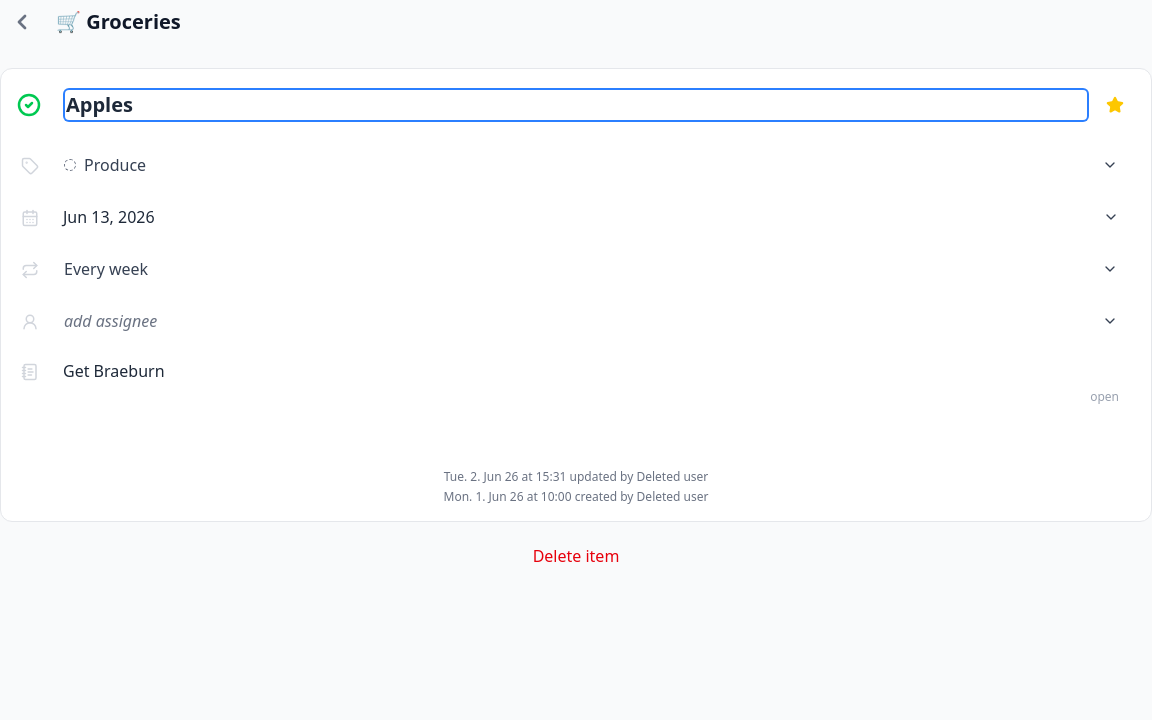
Test: item detail capabilities › opens and cancels item deletion in an app dialog
Click the button "Delete item" at {"x": 576, "y": 556}, box [0, 538, 1151, 574]
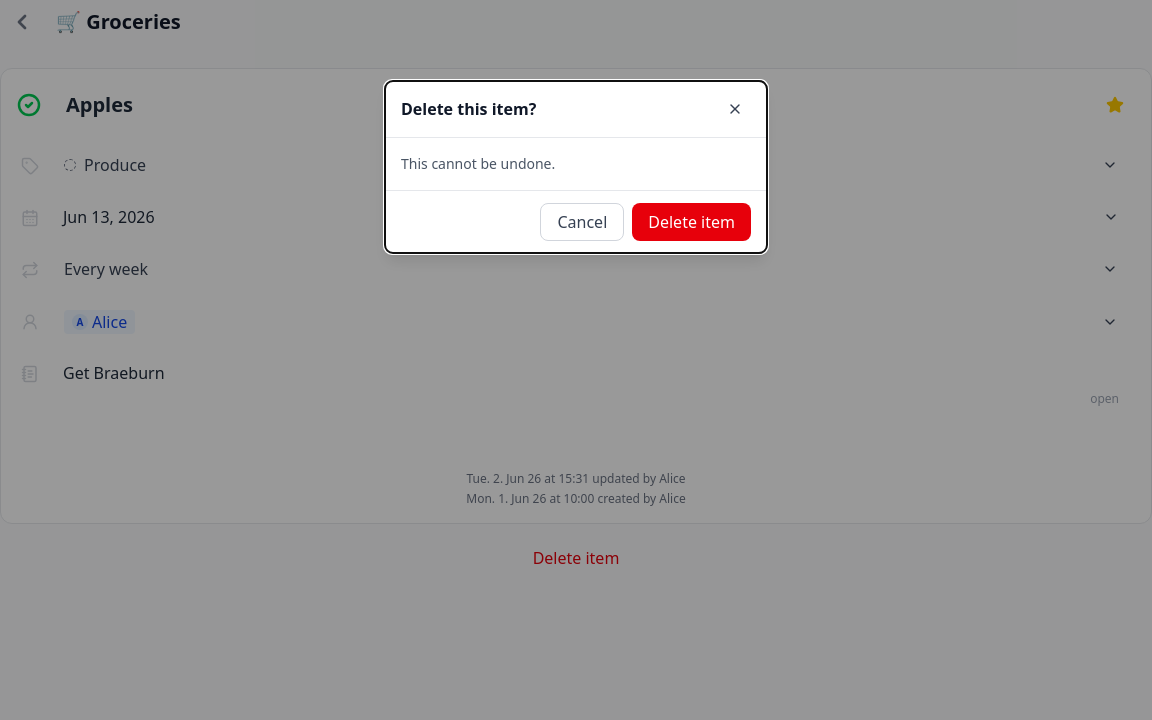
Expected: the dialog "Delete this item?" shows "This cannot be undone.", [401, 154, 555, 173]
Click the button "Cancel" at {"x": 582, "y": 222}, box [540, 203, 624, 241]
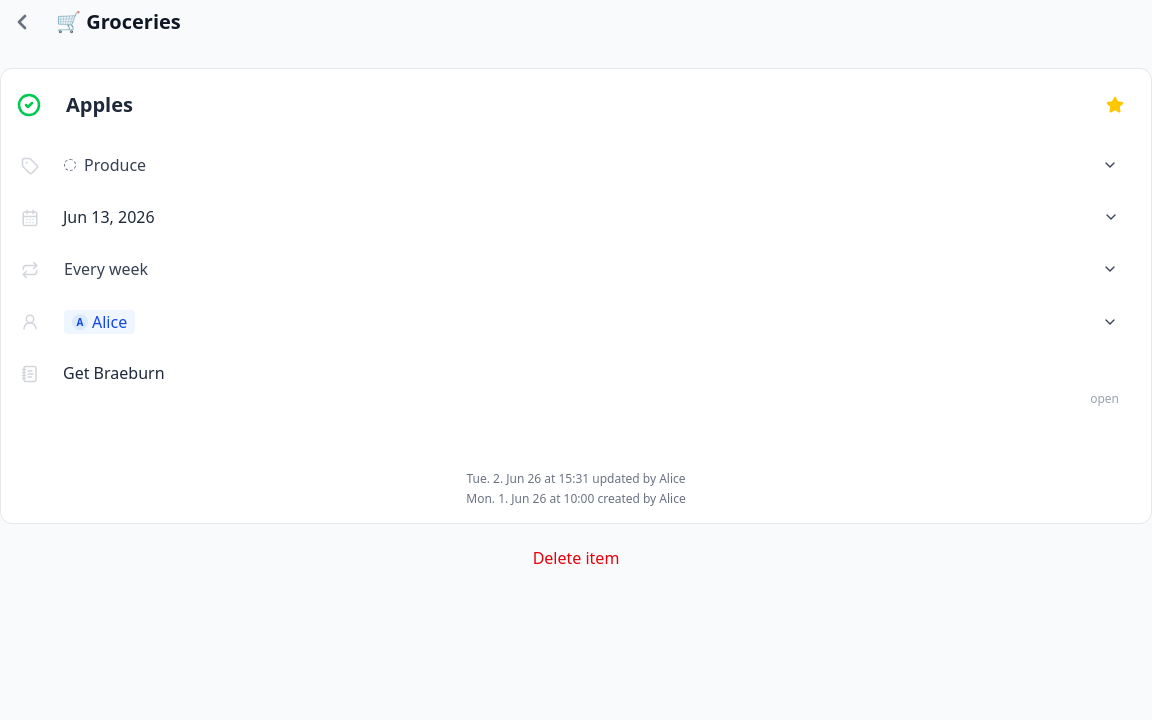
Expected: the heading "Delete this item?" is gone
